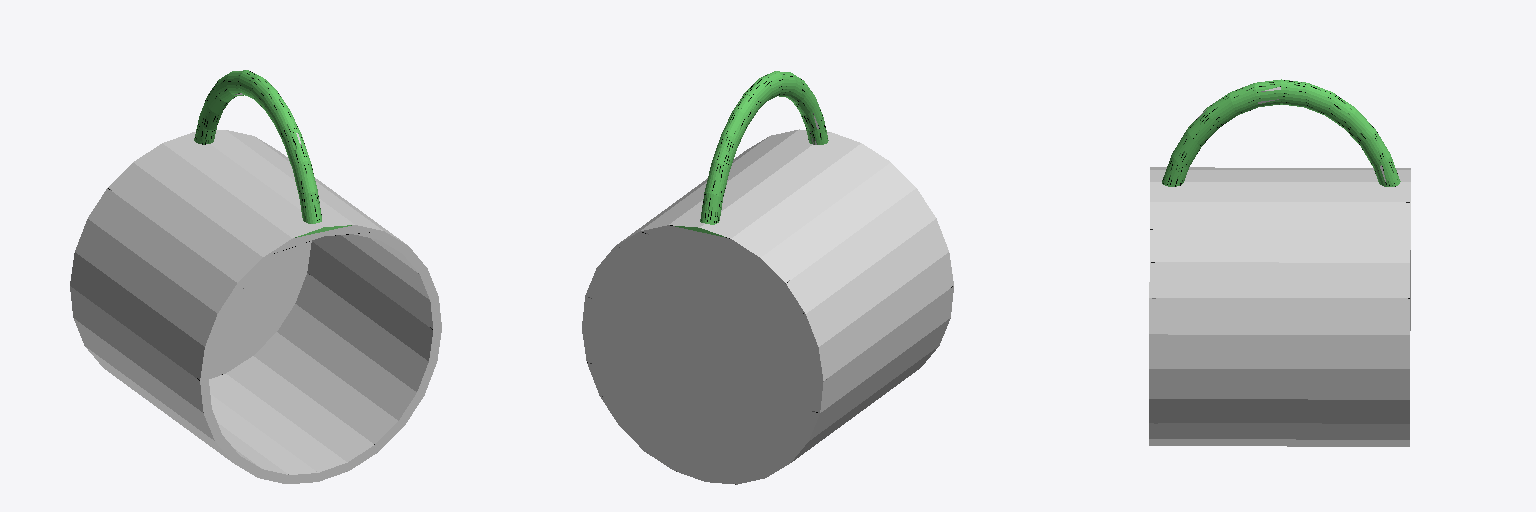
The picture shows the model from 3 angles: view 1: azimuth 30°, elevation 25°; view 2: azimuth 150°, elevation 25°; view 3: azimuth 270°, elevation 25°; orthographic projection.
Parts seen in each view (by area): view 1: geometry_0; view 2: geometry_0; view 3: geometry_0.
Part boxes in pixels (left/top/right/bottom): geometry_0: left=70, top=70, right=441, bottom=483; geometry_0: left=582, top=71, right=953, bottom=484; geometry_0: left=1149, top=79, right=1410, bottom=446.
Bounding box in the file's own units: 0.3565 × 0.5001 × 0.3332.
Materials: 1 (1 with a texture image).